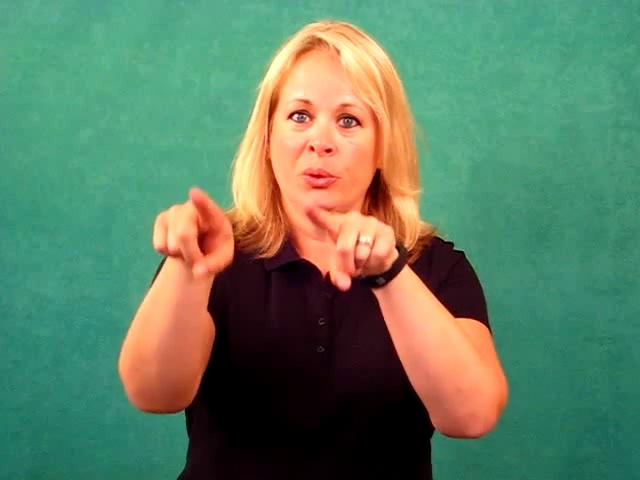go: (116, 167, 402, 299)
